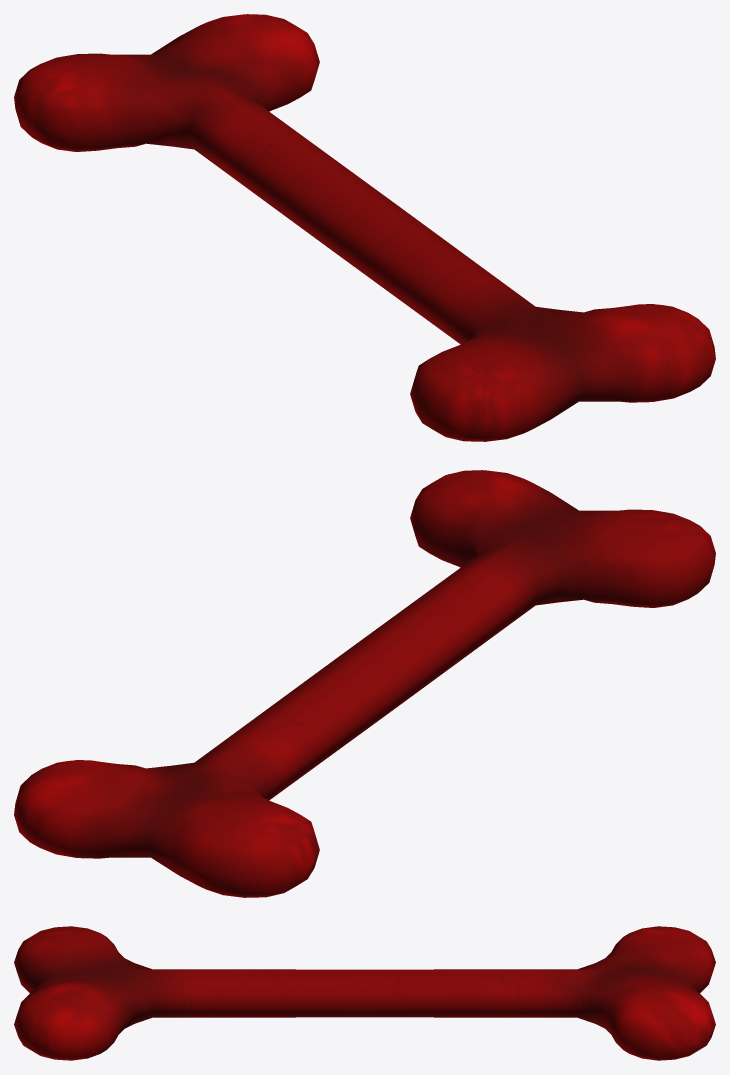
File: M_BoneC.glb
3 renders of one model, top to bottom at view 1: azimuth 30°, elevation 25°; view 2: azimuth 150°, elevation 25°; view 3: azimuth 270°, elevation 25°, orthographic. The views are drawn at different scales.
Parts seen in each view (by area): view 1: SM_Bone; view 2: SM_Bone; view 3: SM_Bone.
Boxes of the visible parts, x1,y1,x2,y2 form: SM_Bone: [14, 14, 715, 441]; SM_Bone: [14, 470, 715, 897]; SM_Bone: [14, 926, 715, 1060].
Bounding box in the file's own units: 0.2791 × 0.0705 × 0.7938.
Materials: 1 (1 with a texture image).
